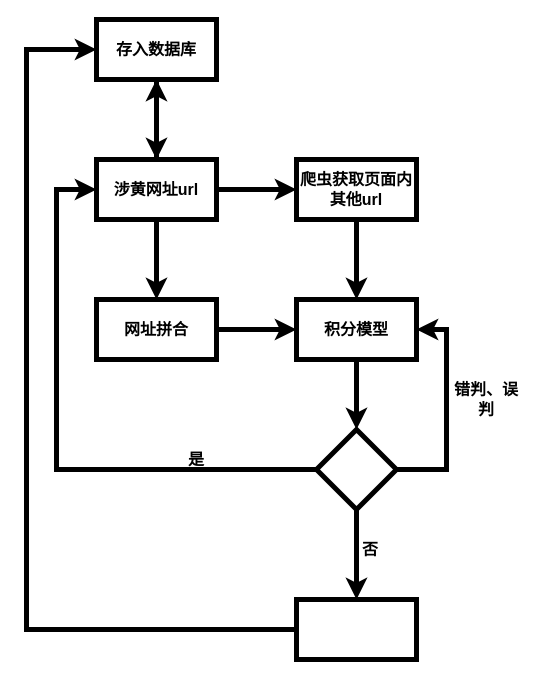
Some shapes in this 544 by 679 pixel diagram are drawn without their labels. Here are the shapes that lost their labels. From the top down, the centre of each, then its label:
the point at 356,469: 是否涉黄
the point at 356,629: 写入白名单
